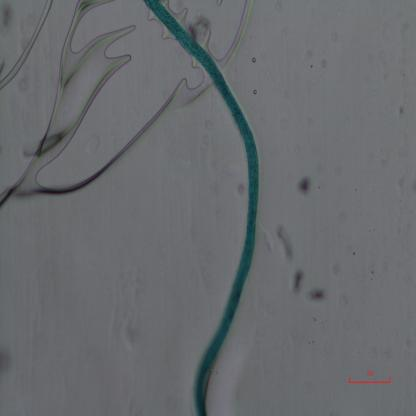Air bubble: (0, 0, 145, 211), (208, 0, 250, 58)
Background material: (272, 224, 296, 263), (0, 343, 19, 386), (294, 171, 314, 199), (303, 286, 327, 304), (291, 271, 306, 298), (233, 178, 245, 196), (398, 101, 406, 117), (249, 53, 258, 63)
Microfibre: (145, 0, 266, 414)
